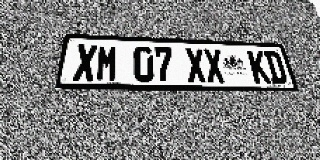0: (134, 46, 154, 82)
7: (153, 47, 174, 82)
D: (263, 51, 288, 84)
K: (247, 50, 272, 83)
M: (95, 45, 118, 82)
X: (72, 44, 97, 81), (203, 49, 226, 83), (185, 48, 207, 83)
